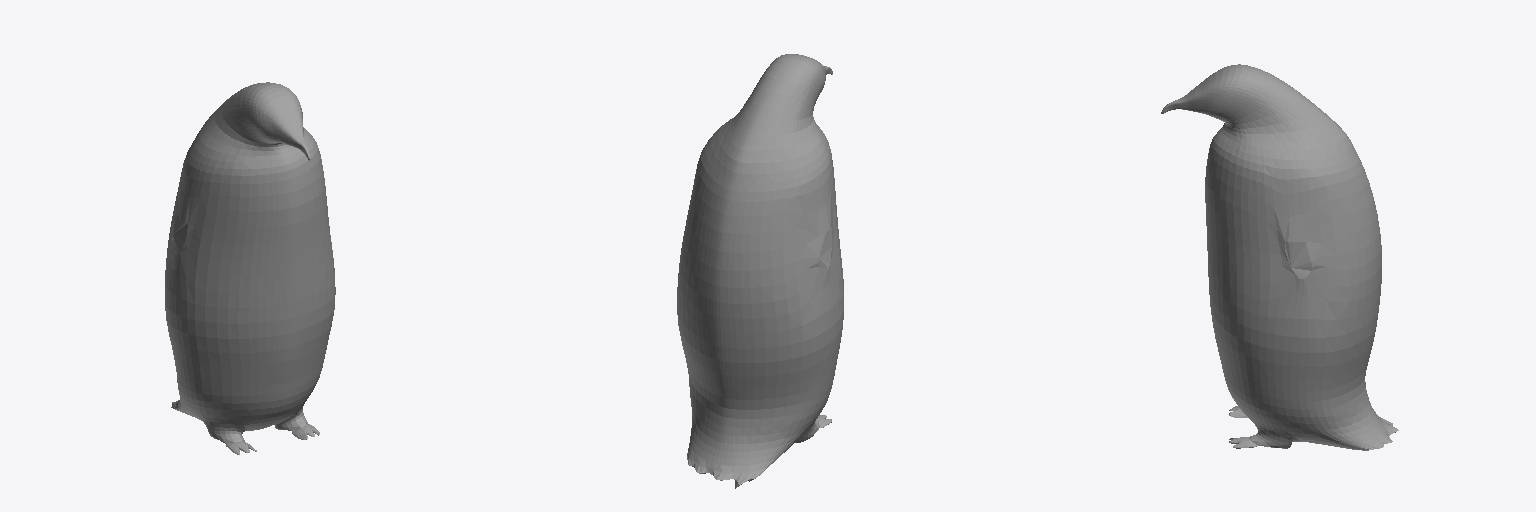
Rendered from pengu.obj.
3 renders of one model, left to right at view 1: azimuth 30°, elevation 25°; view 2: azimuth 150°, elevation 25°; view 3: azimuth 270°, elevation 25°, orthographic.
Visible parts, largest first — view 1: Penguin_Cylinder; view 2: Penguin_Cylinder; view 3: Penguin_Cylinder.
Part boxes in pixels (bbox=[...]): Penguin_Cylinder: bbox=[165, 82, 335, 454]; Penguin_Cylinder: bbox=[677, 54, 843, 488]; Penguin_Cylinder: bbox=[1161, 64, 1398, 450].
Size of the model in its own units: 0.4123 by 0.9958 by 0.5788.